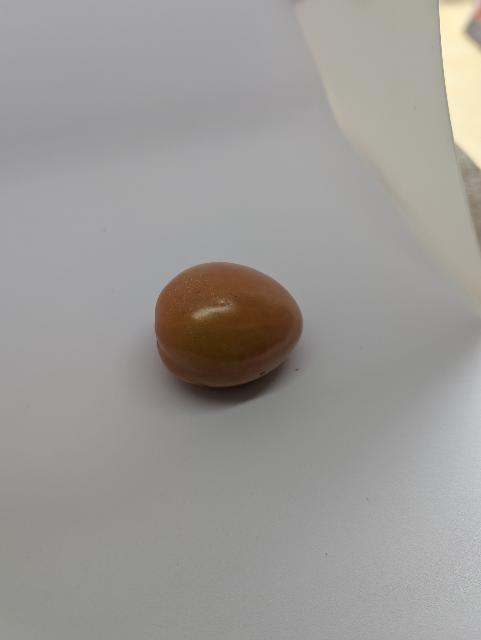turning: (152, 257, 305, 398)
